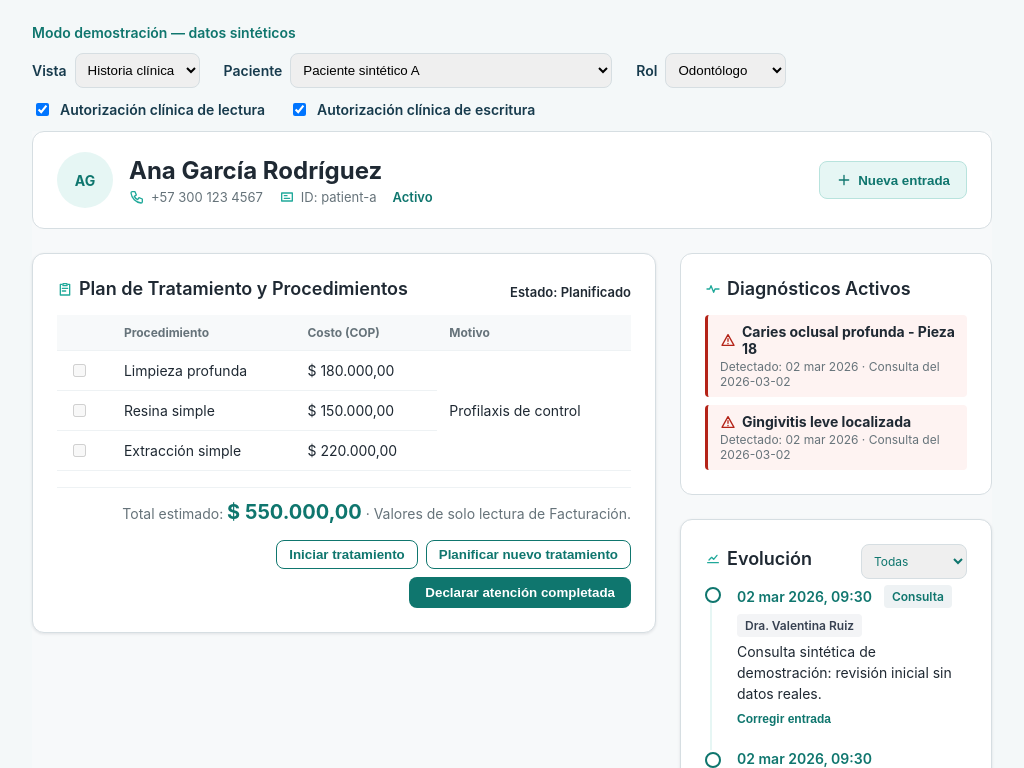
Test: ClinicalPortalComposition › starts a planned treatment
Expected: the cell "Limpieza profunda" is shown, [112,350,296,390]
Expected: the text "Estado: Planificado" is shown, [510,284,631,300]
Click the button "Iniciar tratamiento" at coordinates (347, 554), box [276,540,418,569]
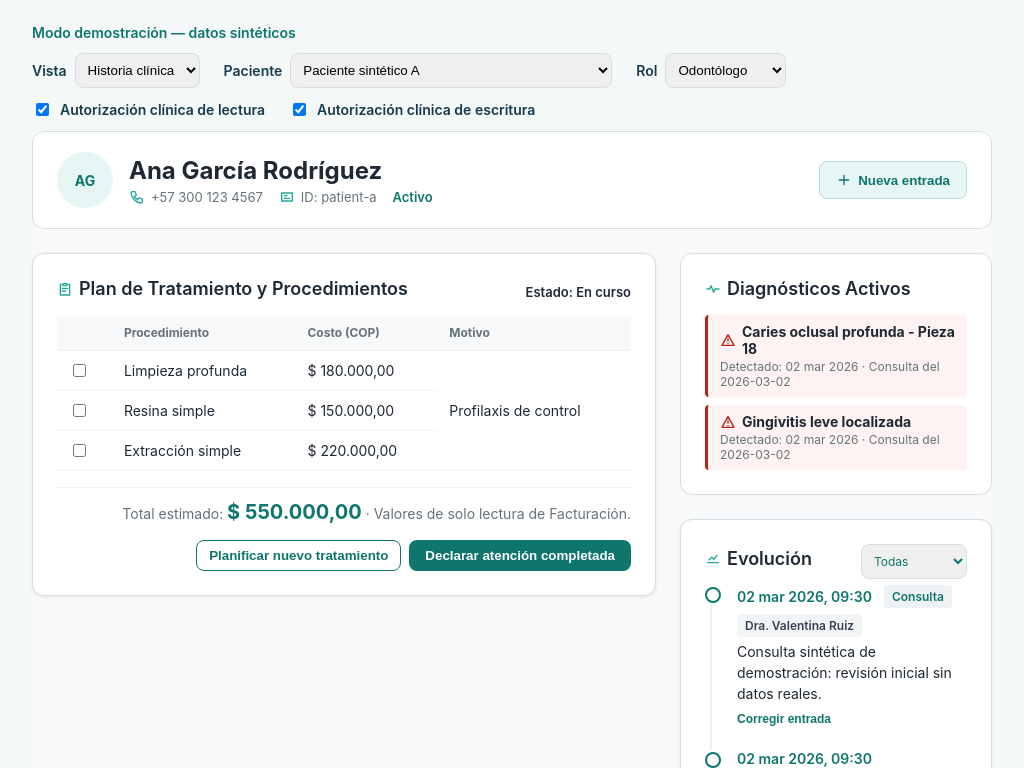
Expected: the text "Estado: En curso" is shown, [526,284,631,300]
Expected: the button "Iniciar tratamiento" is gone
